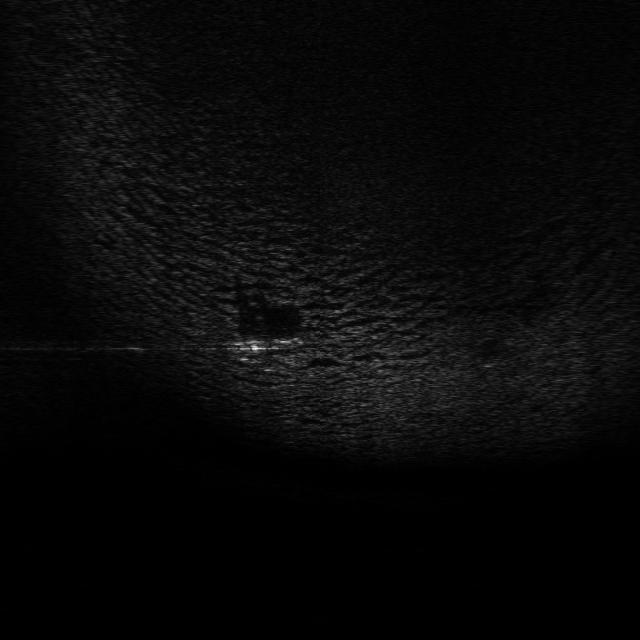plane: (226, 330, 302, 360)
